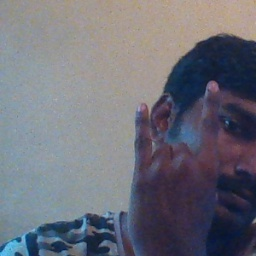V: (122, 78, 226, 255)
